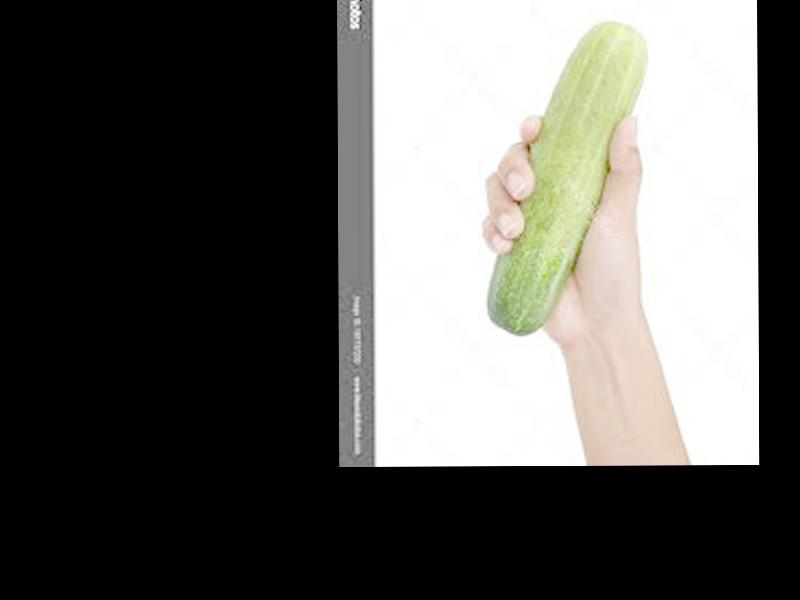Cucumber: (487, 22, 651, 336)
